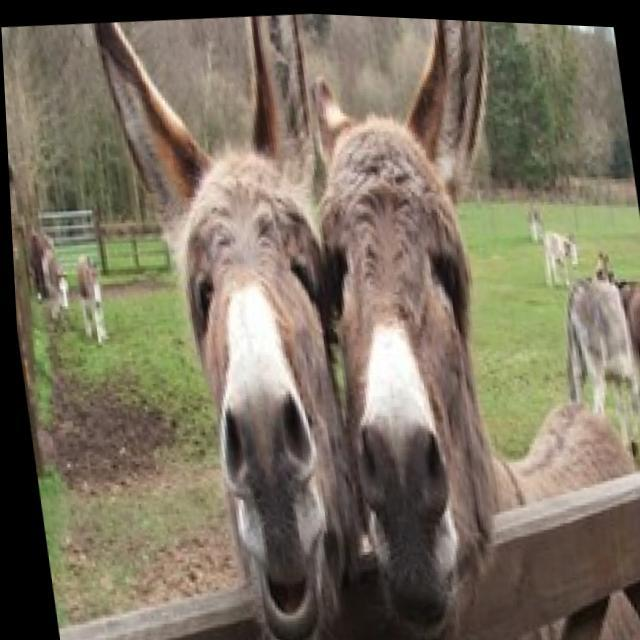Donkey: (87, 3, 379, 640), (286, 10, 570, 640)
